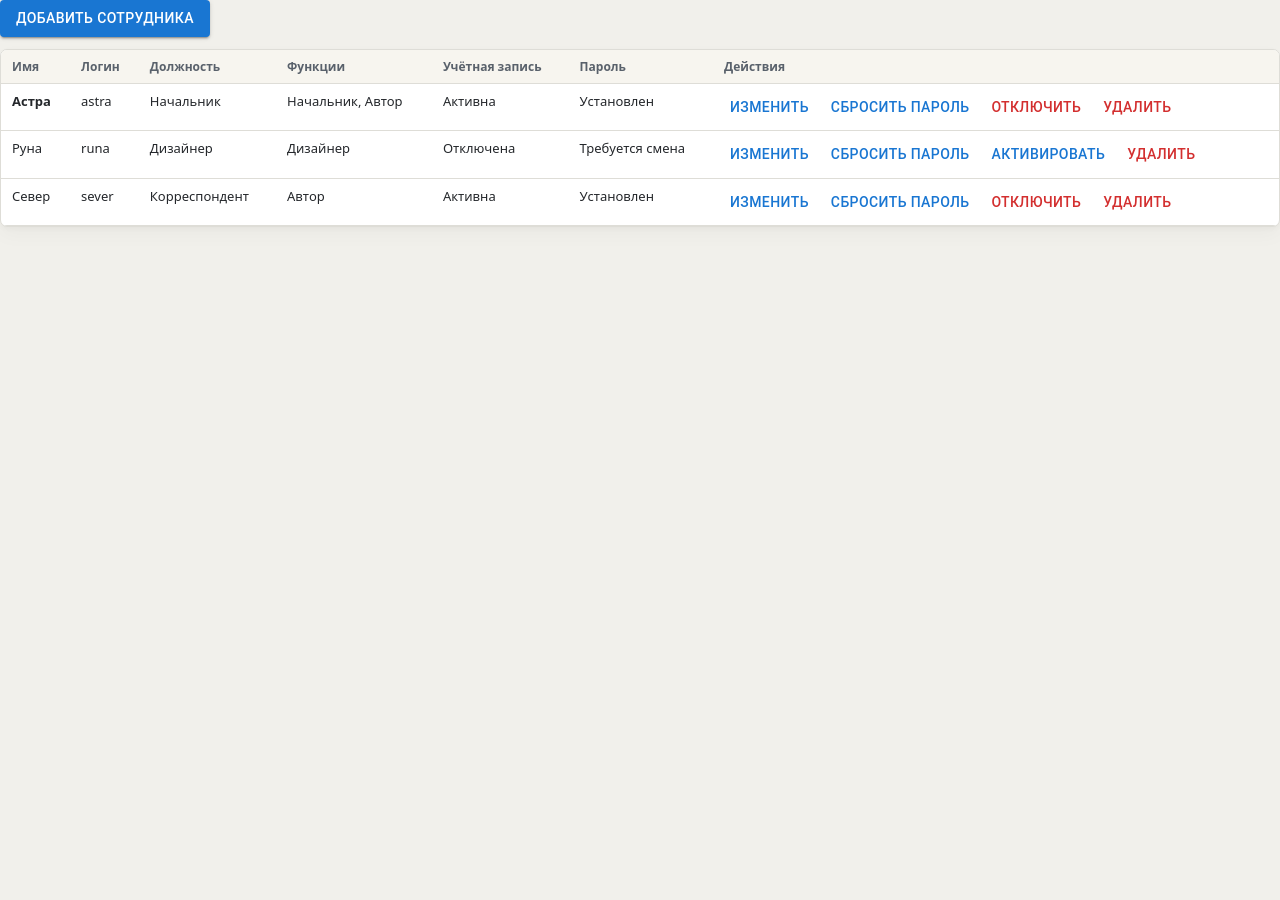
AdminUsersManager › rejects empty create and reset passwords locally with required minimum-length controls
Expected: the cell "Астра" is shown, [1,83,70,131]
Click the button "Добавить сотрудника".
click(105, 18)  # box [0,0,210,36]
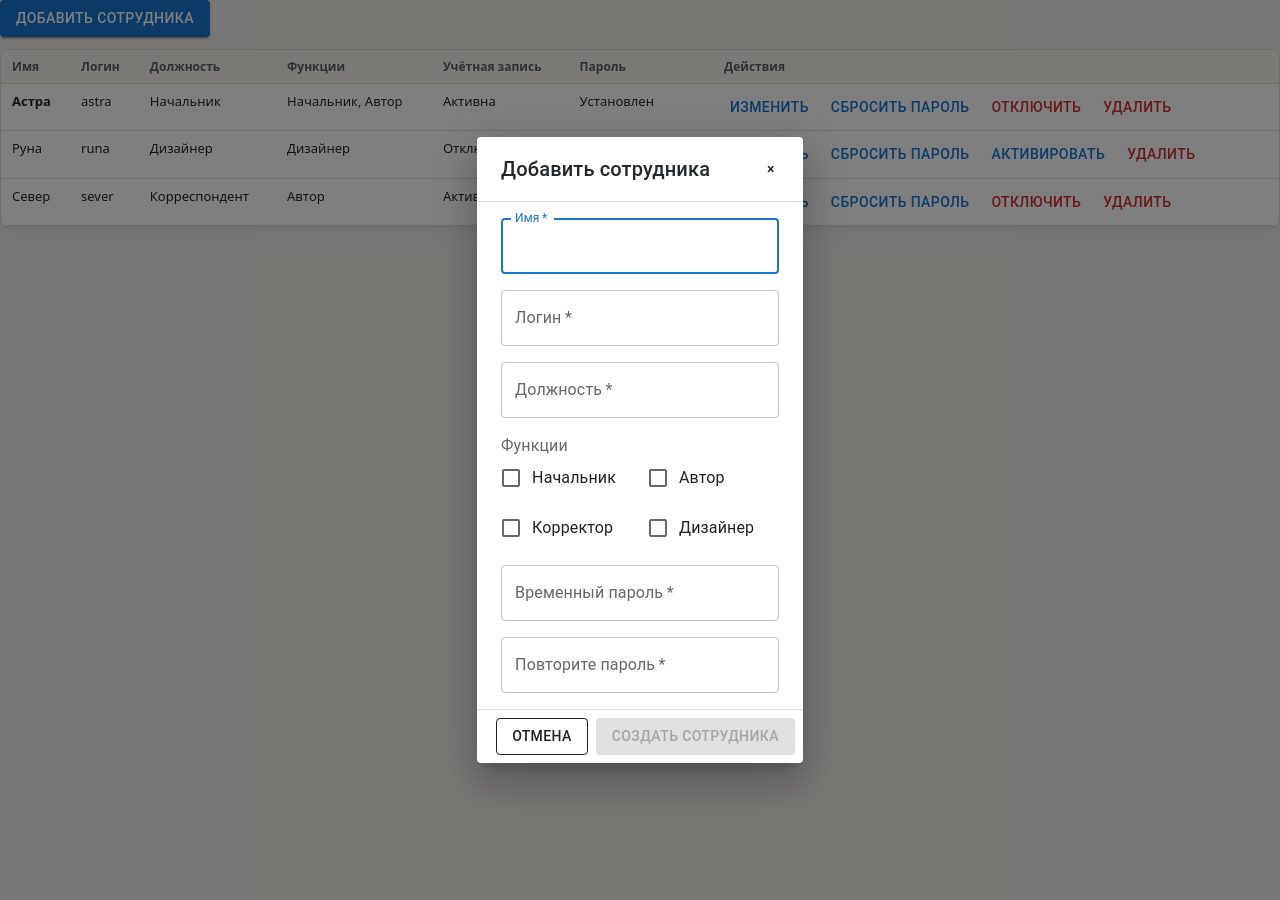
Type "Север" into the field labelled "Имя".
click(640, 246); type("Север")  # box [501,218,779,274]
Type "sever" into the field labelled "Логин".
click(640, 318); type("sever")  # box [501,290,779,346]
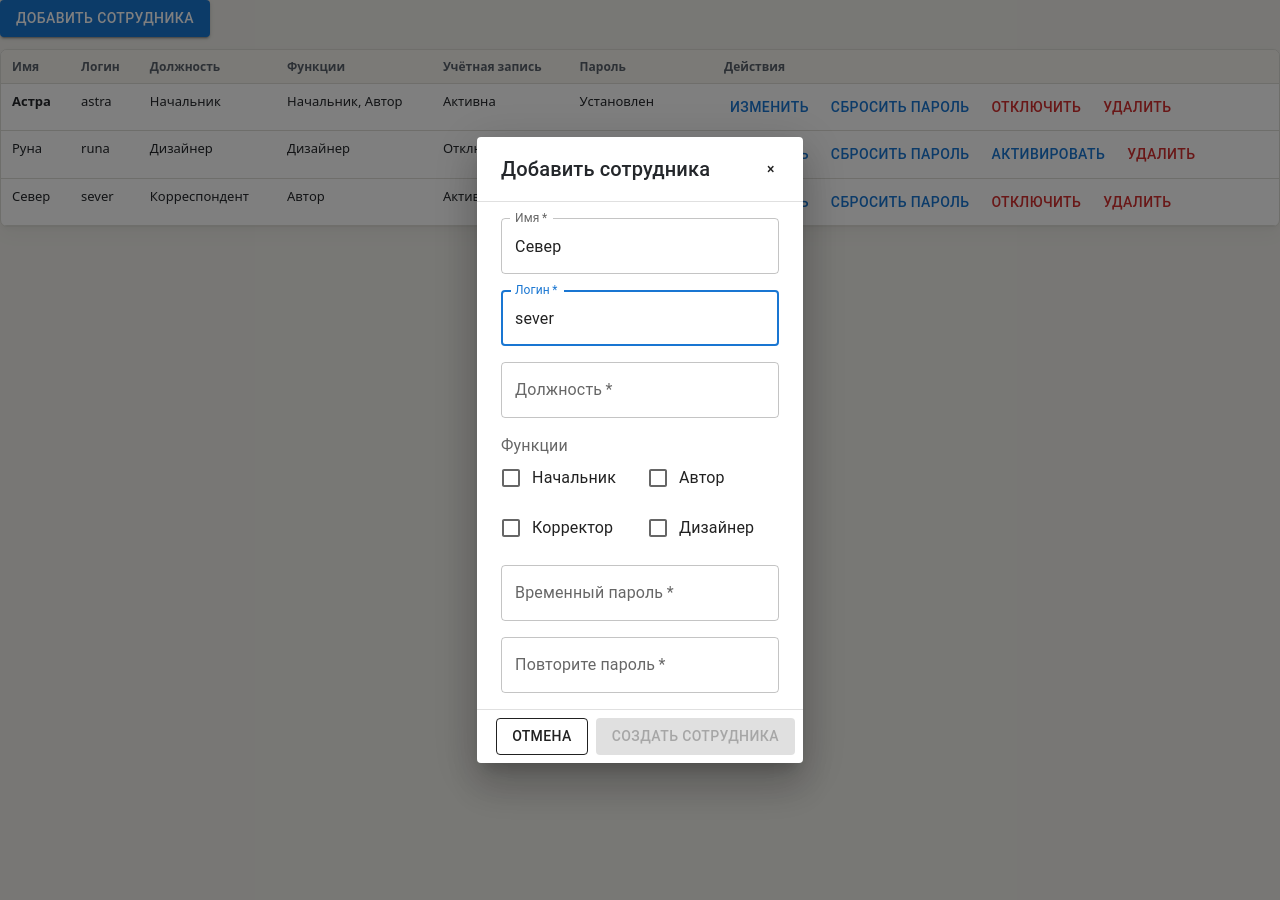
Type "Корреспондент" into the field labelled "Должность".
click(640, 390); type("Корреспондент")  # box [501,362,779,418]
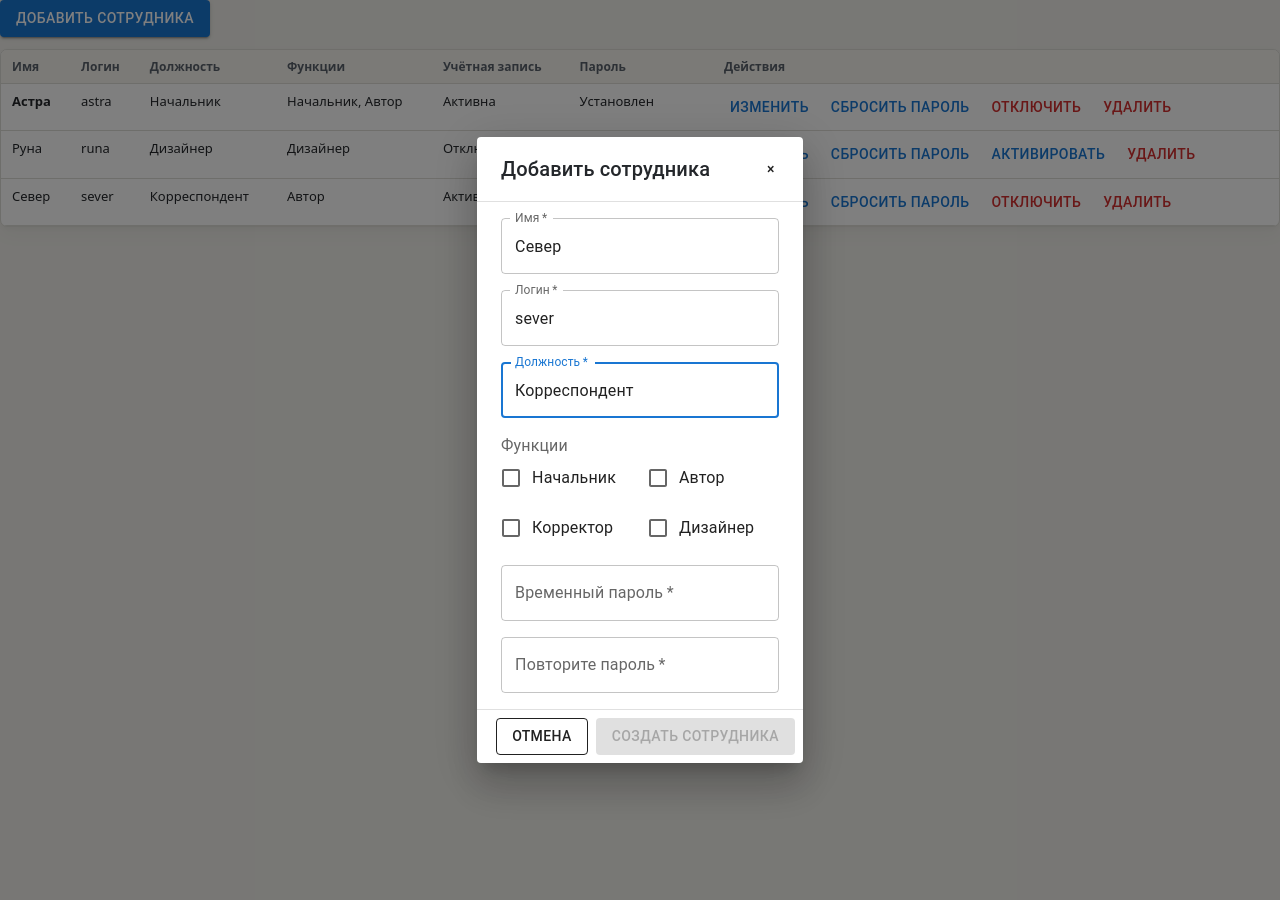
Click the checkbox labelled "Автор".
click(685, 478)  # box [646,466,725,490]
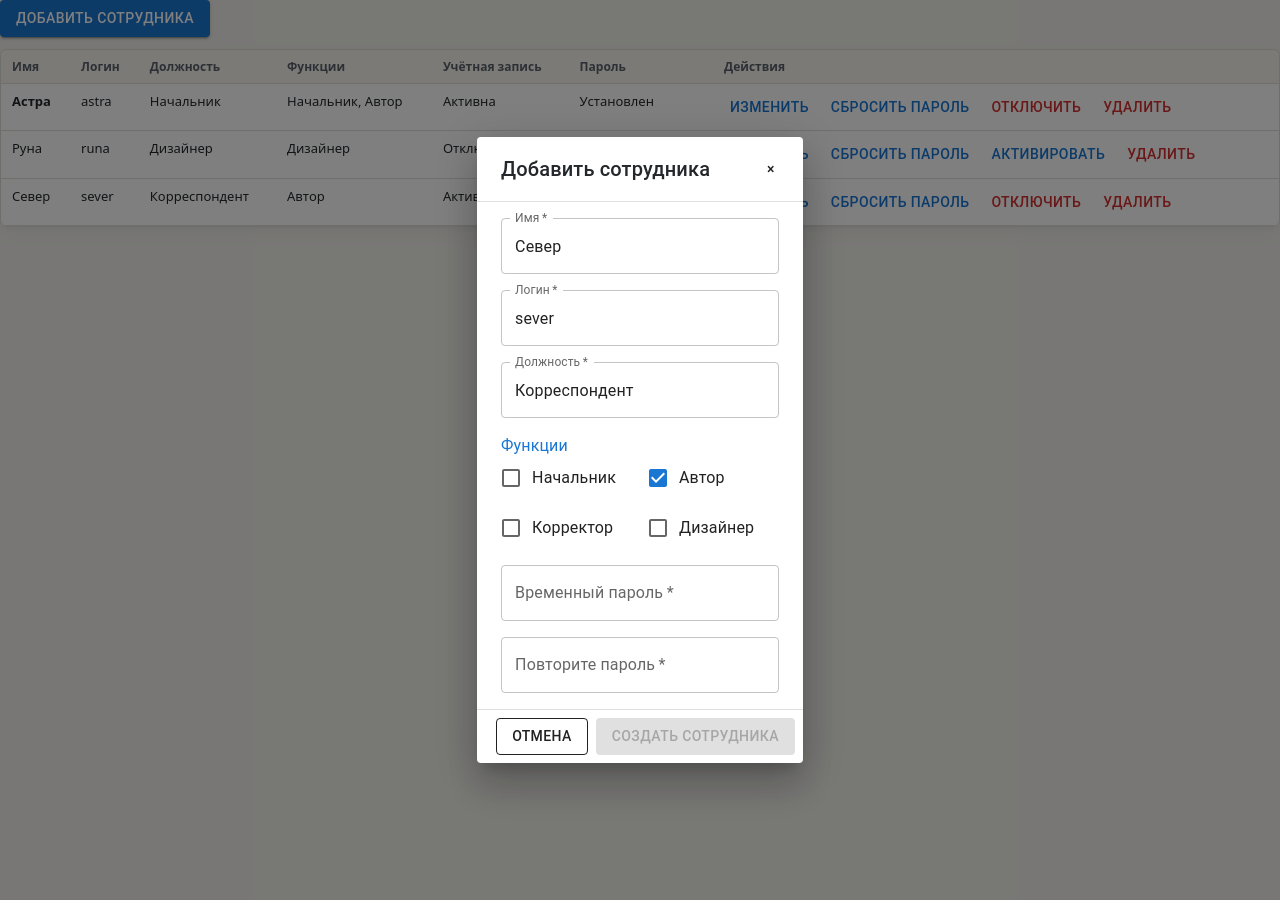
Expected: the button "Создать сотрудника" is disabled, [596,718,795,755]
Click the button named "Закрыть".
click(771, 170)  # box [755,151,787,188]
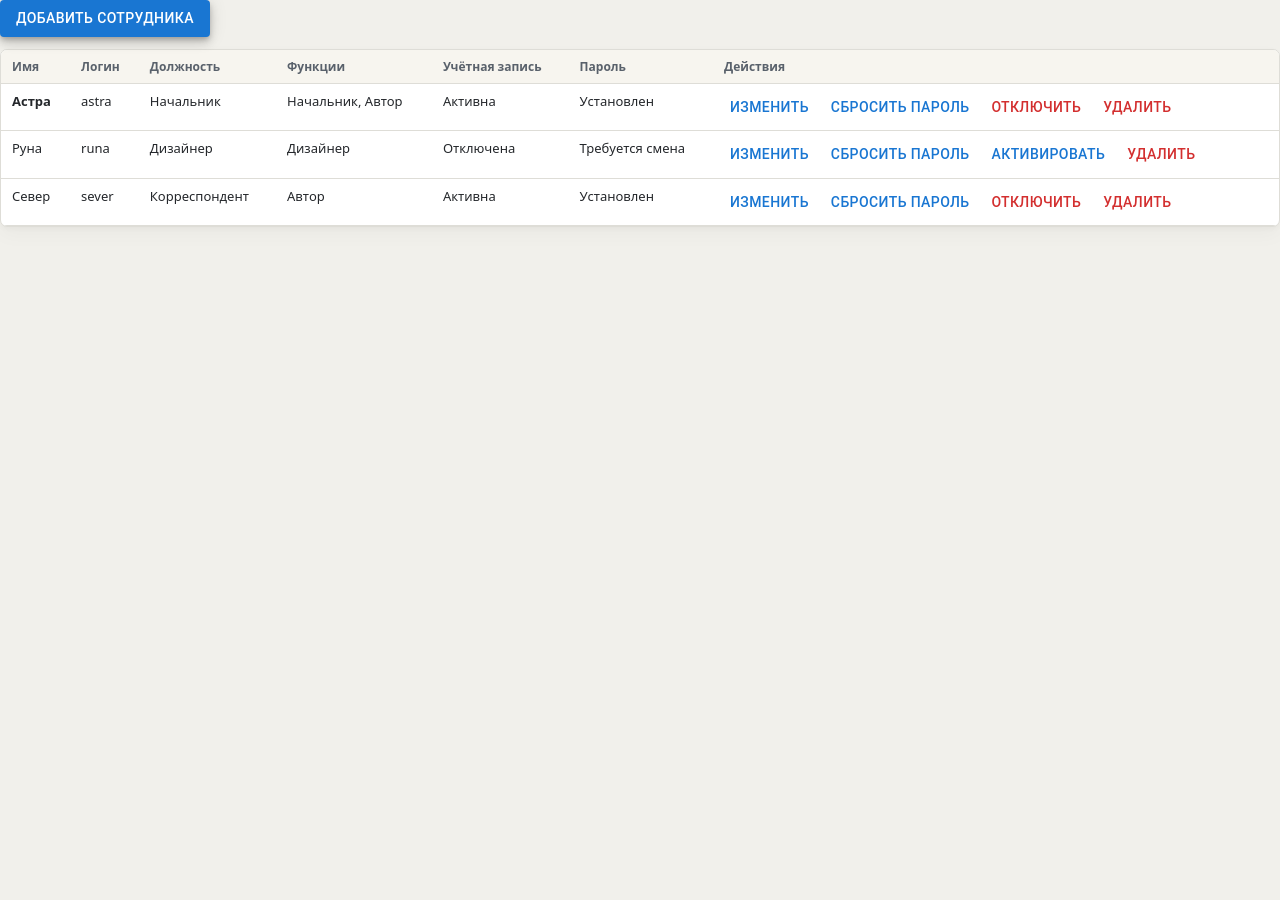
Click the button with aria-label "Сбросить пароль Руна".
click(900, 155)  # box [825,139,976,170]
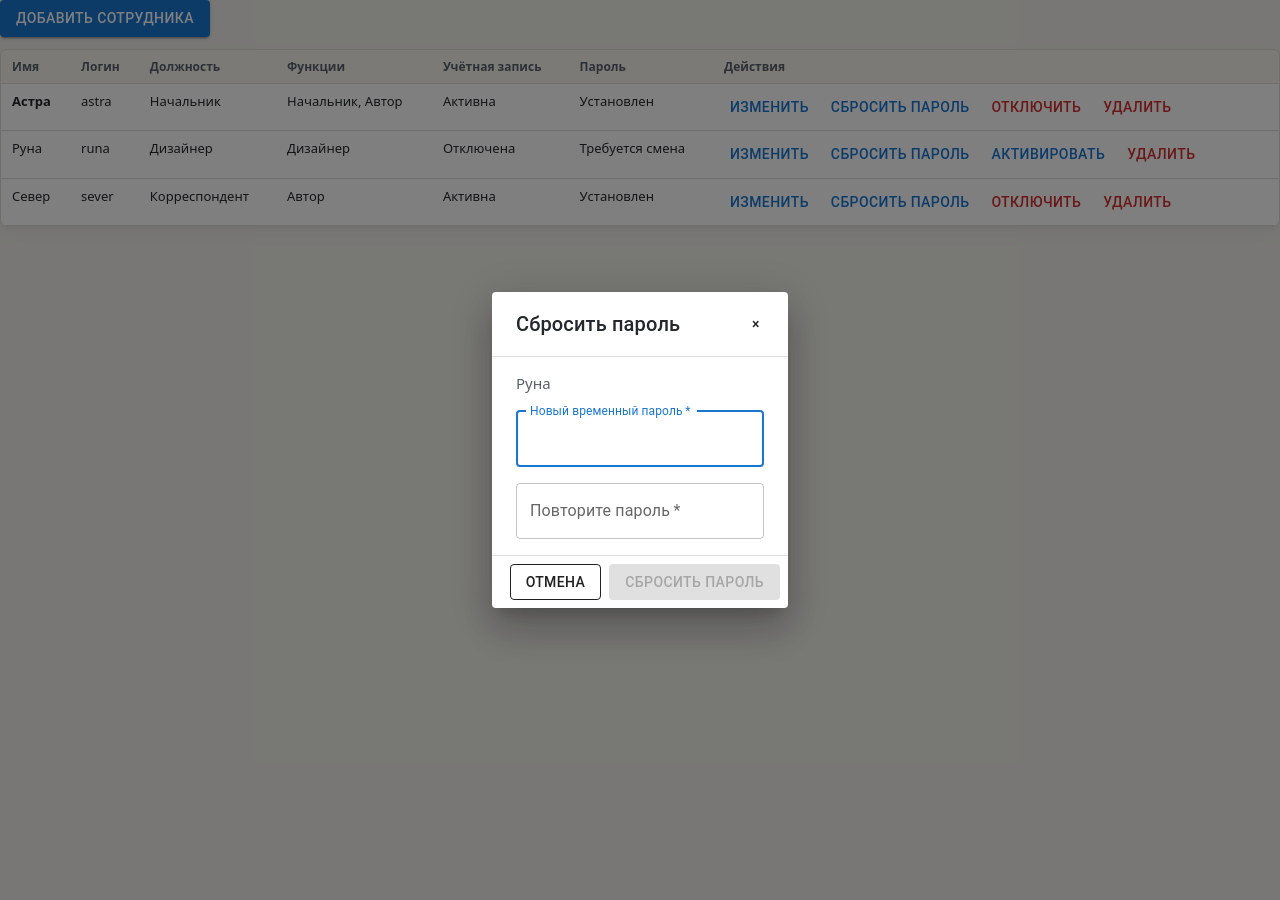
Expected: the button "Сбросить пароль" is disabled, [609,564,780,600]
